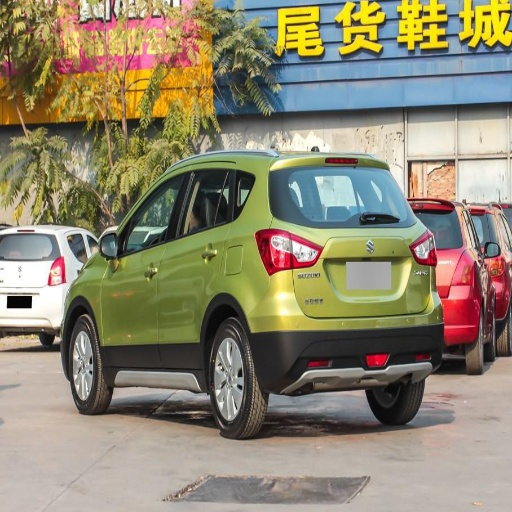back_bumper: (247, 273, 479, 393)
back_glass: (269, 167, 410, 222)
back_left_door: (159, 164, 231, 369)
tailgate: (289, 216, 426, 315)
